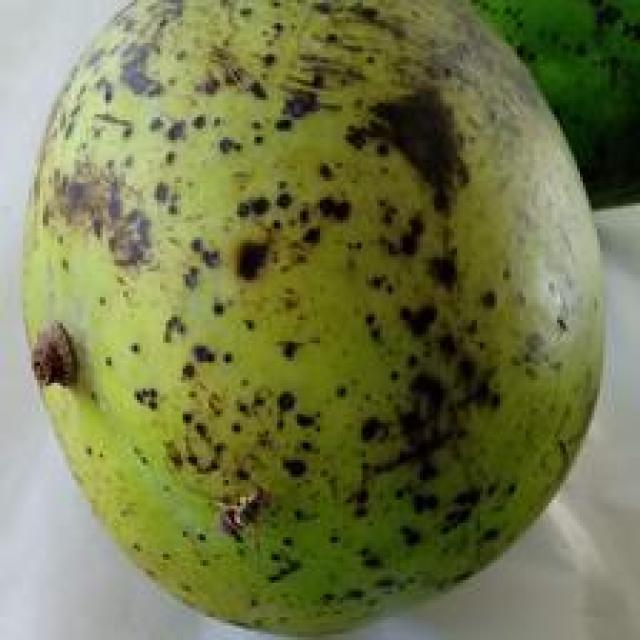Mango: (26, 0, 610, 636)
